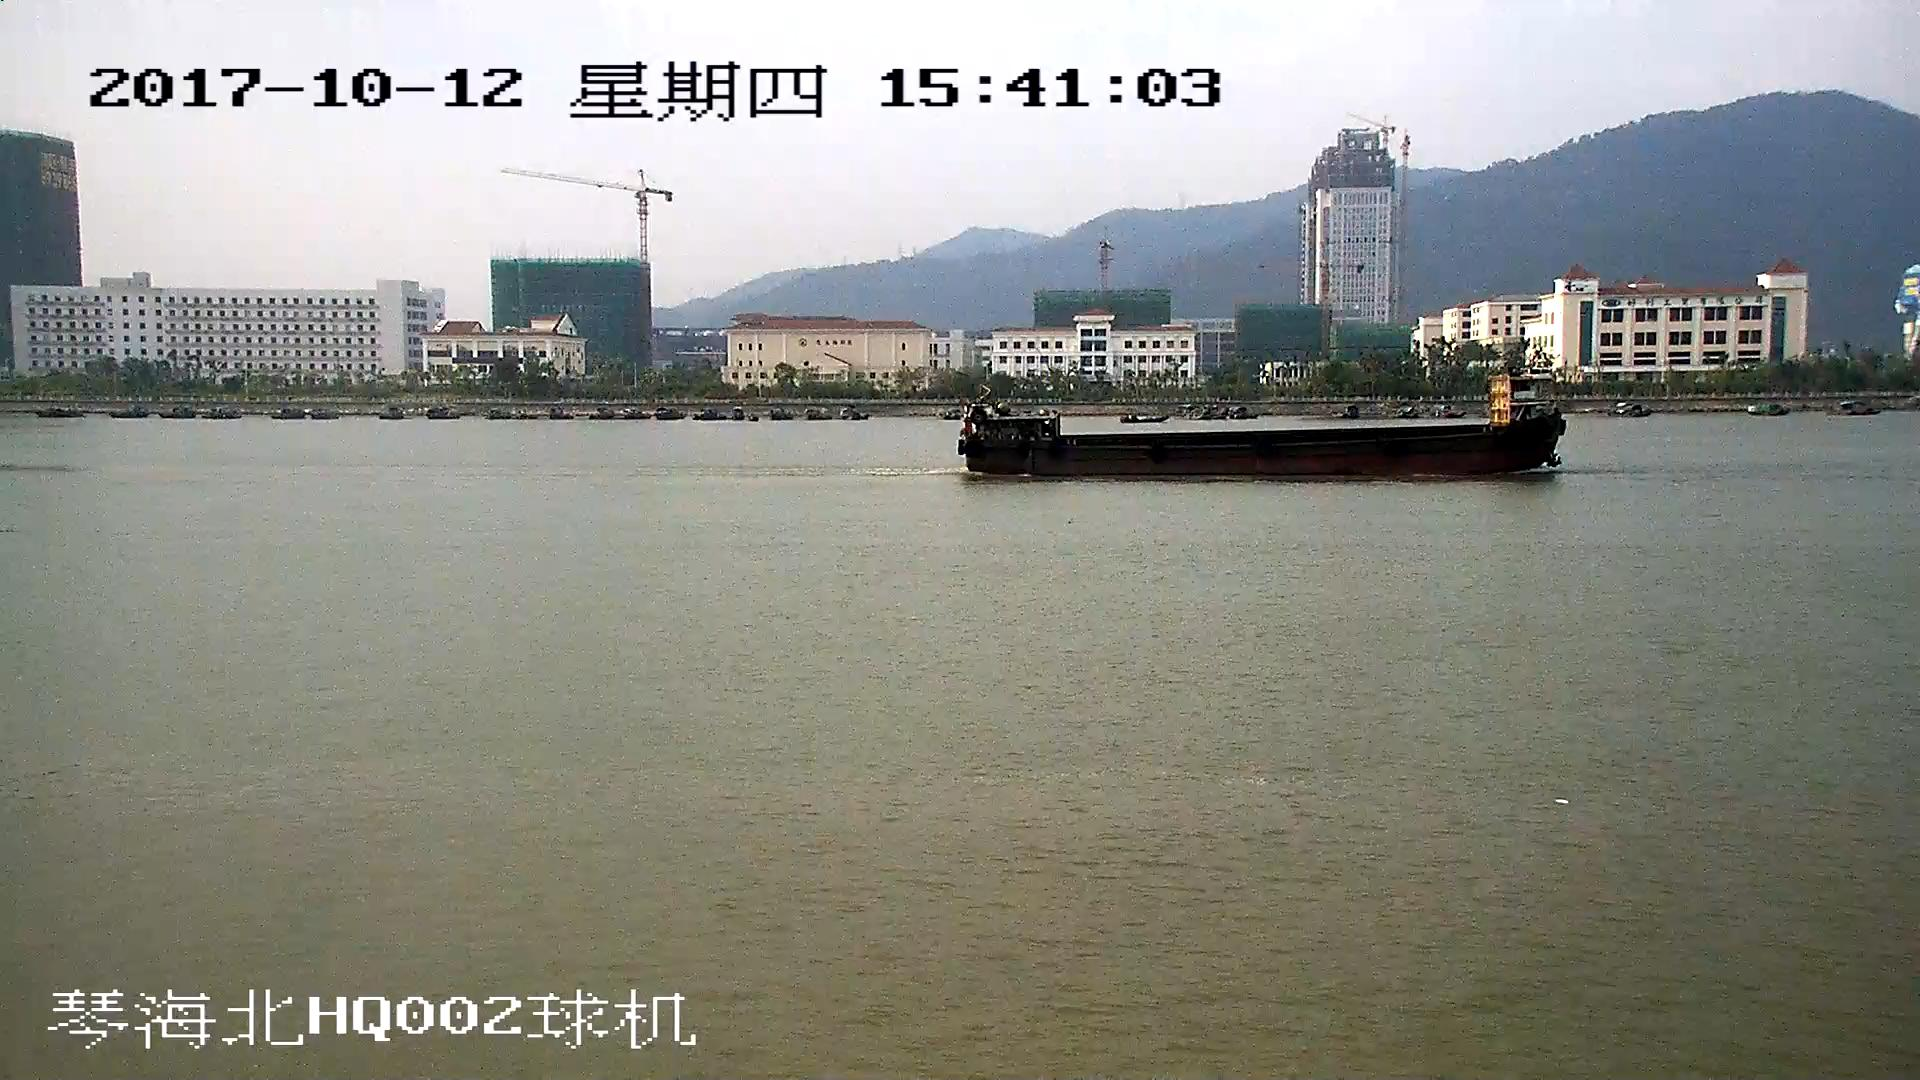general cargo ship: (966, 378, 1565, 481)
